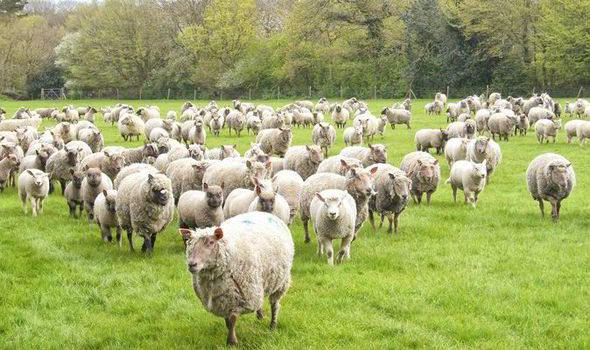sheep: (183, 220, 306, 330), (309, 188, 363, 269), (14, 164, 80, 230), (115, 173, 173, 236), (195, 146, 265, 196), (262, 129, 328, 182), (528, 150, 571, 217), (353, 159, 403, 216), (399, 148, 447, 204), (439, 152, 484, 203), (173, 183, 224, 226), (89, 188, 130, 240), (75, 170, 113, 215), (460, 133, 499, 171), (414, 124, 455, 158), (338, 138, 380, 170), (6, 115, 39, 155), (289, 146, 327, 174), (443, 111, 476, 143), (56, 108, 94, 135), (416, 93, 451, 121), (527, 94, 558, 125), (102, 103, 141, 127), (143, 120, 173, 151), (75, 121, 100, 157), (178, 119, 208, 148), (347, 115, 375, 146), (254, 104, 284, 132), (560, 117, 588, 147), (316, 122, 342, 154), (495, 101, 528, 125), (535, 118, 563, 145), (50, 124, 77, 152), (117, 116, 141, 144), (225, 111, 248, 138), (240, 111, 264, 134), (474, 89, 492, 116), (324, 102, 345, 124), (286, 99, 305, 121), (307, 94, 326, 116), (452, 96, 471, 113)
